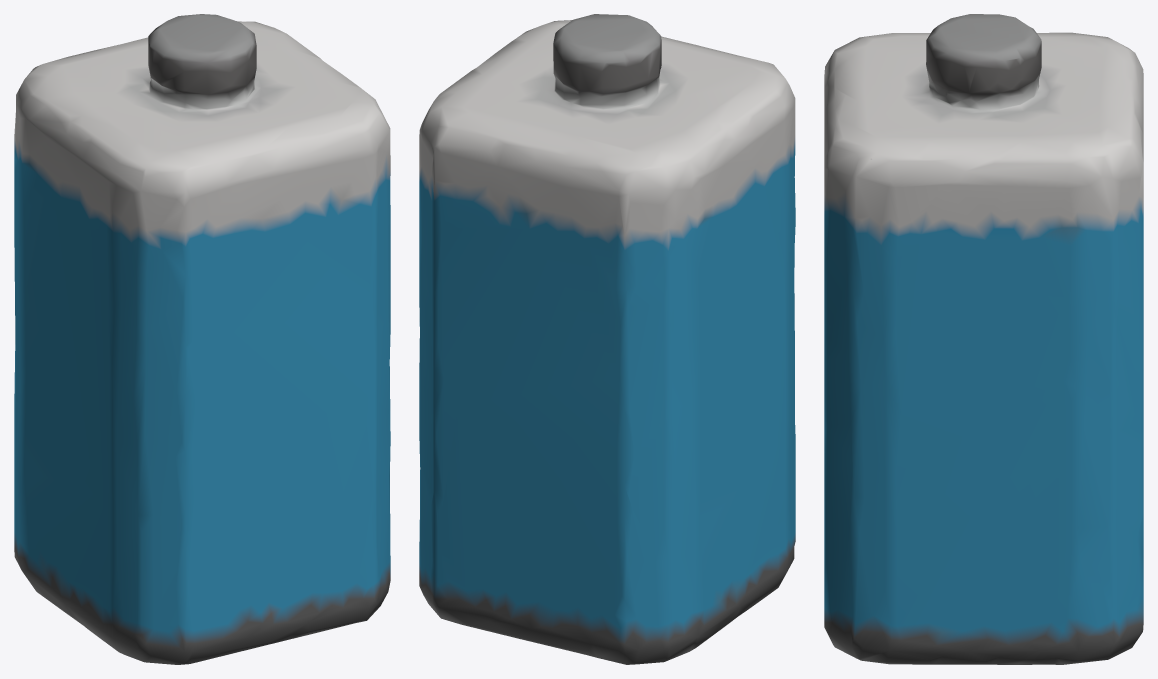
File: gen3d-battery-lod0.glb
3 renders of one model, left to right at view 1: azimuth 30°, elevation 25°; view 2: azimuth 150°, elevation 25°; view 3: azimuth 270°, elevation 25°, orthographic. The views are drawn at different scales.
Parts seen in each view (by area): view 1: part_0; view 2: part_0; view 3: part_0.
Part boxes in pixels (x1,y1,x2,y2): part_0: [14, 14, 390, 664]; part_0: [419, 14, 795, 664]; part_0: [824, 14, 1143, 664].
Bounding box in the file's own units: 0.502 × 1 × 0.502.
